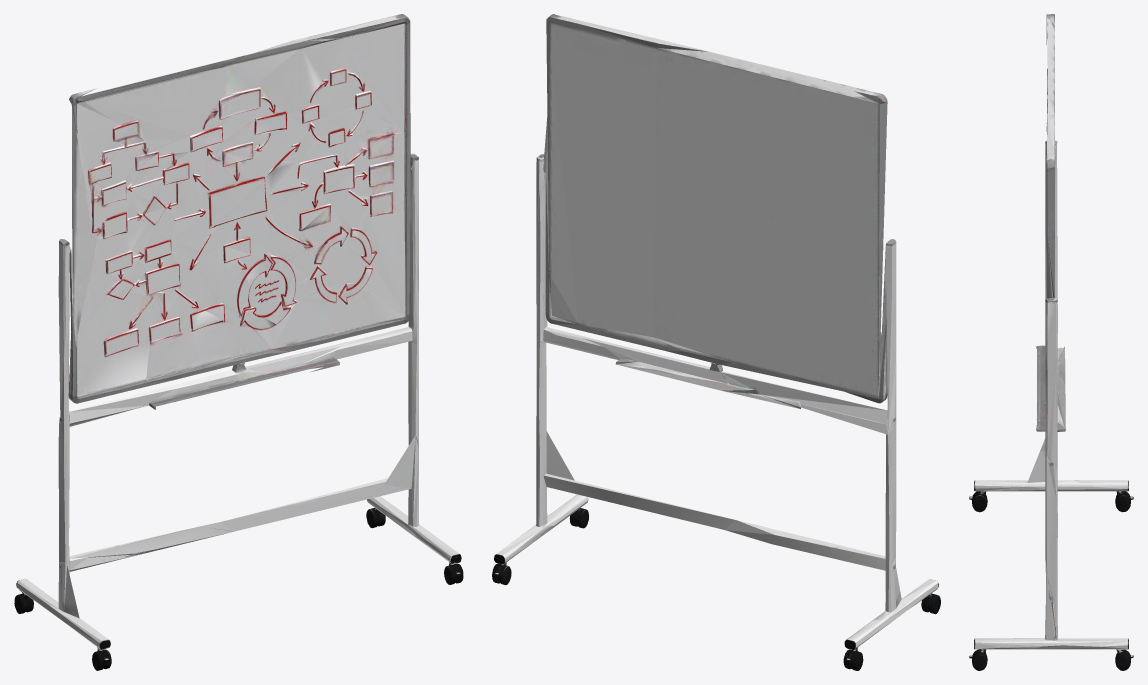
Rendered from rolling_whiteboard.glb.
3 renders of one model, left to right at view 1: azimuth 30°, elevation 25°; view 2: azimuth 150°, elevation 25°; view 3: azimuth 270°, elevation 25°, orthographic. The views are drawn at different scales.
Visible parts, largest first — view 1: 0; view 2: 0; view 3: 0.
Boxes of the visible parts, x1,y1,x2,y2 form: 0: (14, 14, 463, 670); 0: (492, 14, 940, 670); 0: (969, 14, 1133, 670).
Size of the model in its own units: 1.3 by 1.85 by 0.55.
Materials: 1 (1 with a texture image).
